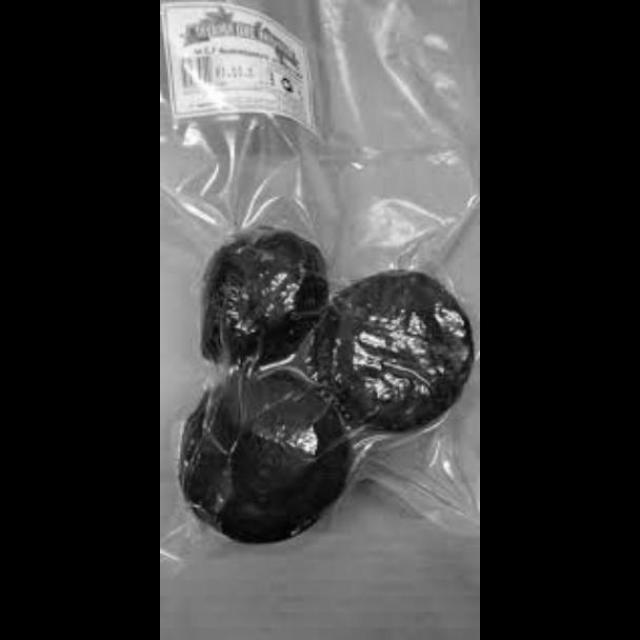sugar beet: (173, 367, 370, 553), (308, 256, 473, 439), (185, 220, 333, 378)
